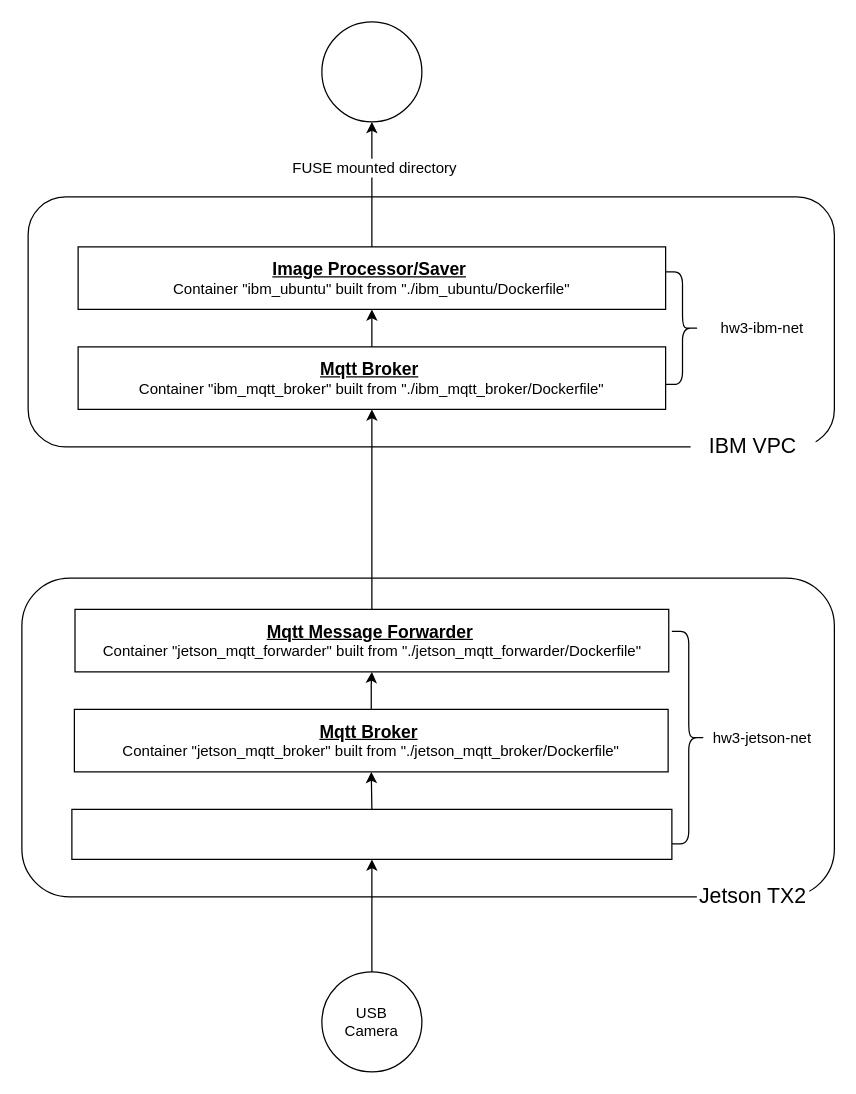
The diagram is 856 pixels wide and 1094 high, and some of its shapes have lost their labels. The shapes that lost their labels are listed below. From the top down, each one's centre as x and y in pixels, then its label:
[371,71]: IBM Cloud Storage
[371,833]: Face Detector Container "jetson_ubuntu" built from "./jetson_ubuntu/Dockerfile"
